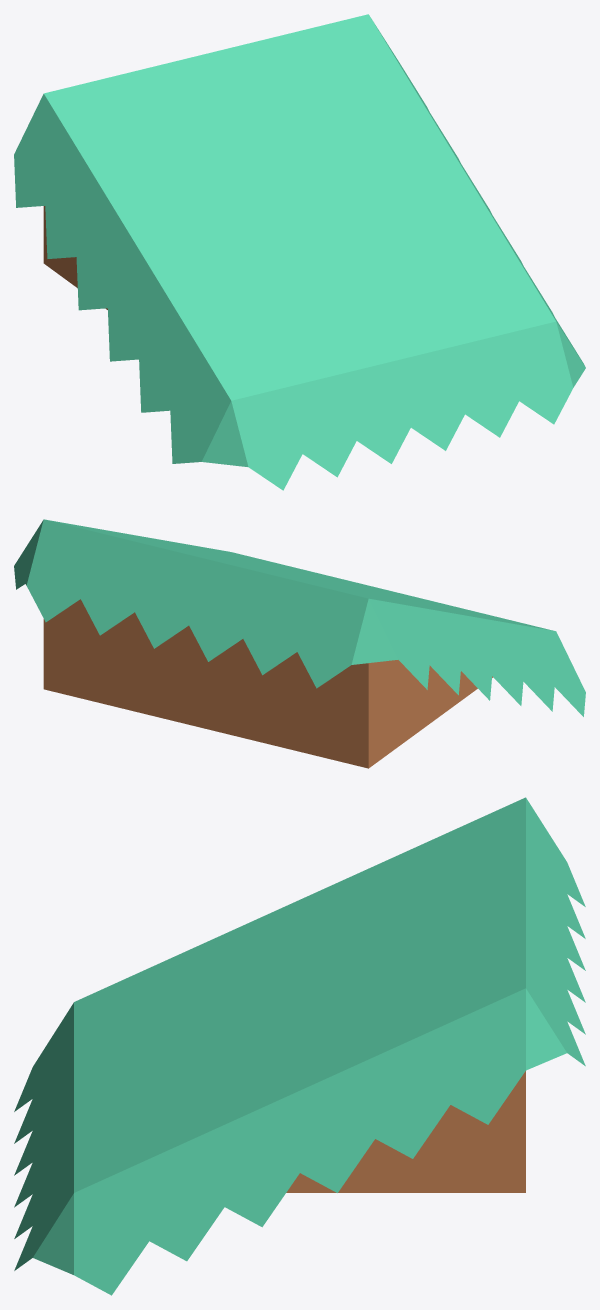
File: blockSlopeHalf.fbx
3 renders of one model, top to bottom at view 1: azimuth 30°, elevation 25°; view 2: azimuth 150°, elevation 25°; view 3: azimuth 270°, elevation 25°, orthographic. The views are drawn at different scales.
Parts seen in each view (by area): view 1: blockSlopeHalf; view 2: blockSlopeHalf; view 3: blockSlopeHalf.
Part boxes in pixels (box(x1,y1,x2,y2)): blockSlopeHalf: box(14, 14, 585, 490); blockSlopeHalf: box(14, 519, 585, 768); blockSlopeHalf: box(14, 797, 585, 1295).
Size of the model in its own units: 12.66 by 7.3 by 12.66.
